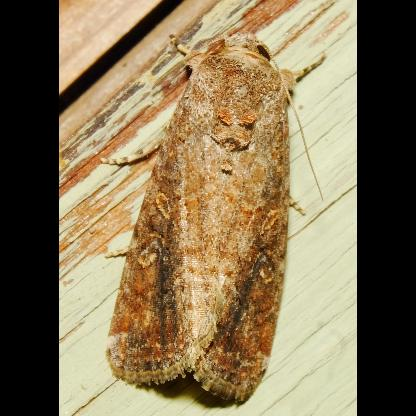Fall Armyworm Moth: (97, 29, 331, 407)
